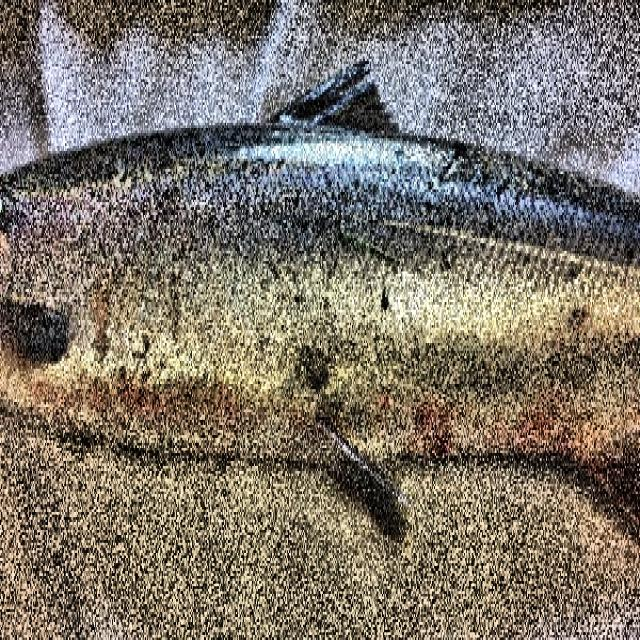mild_red: (0, 97, 639, 489)
